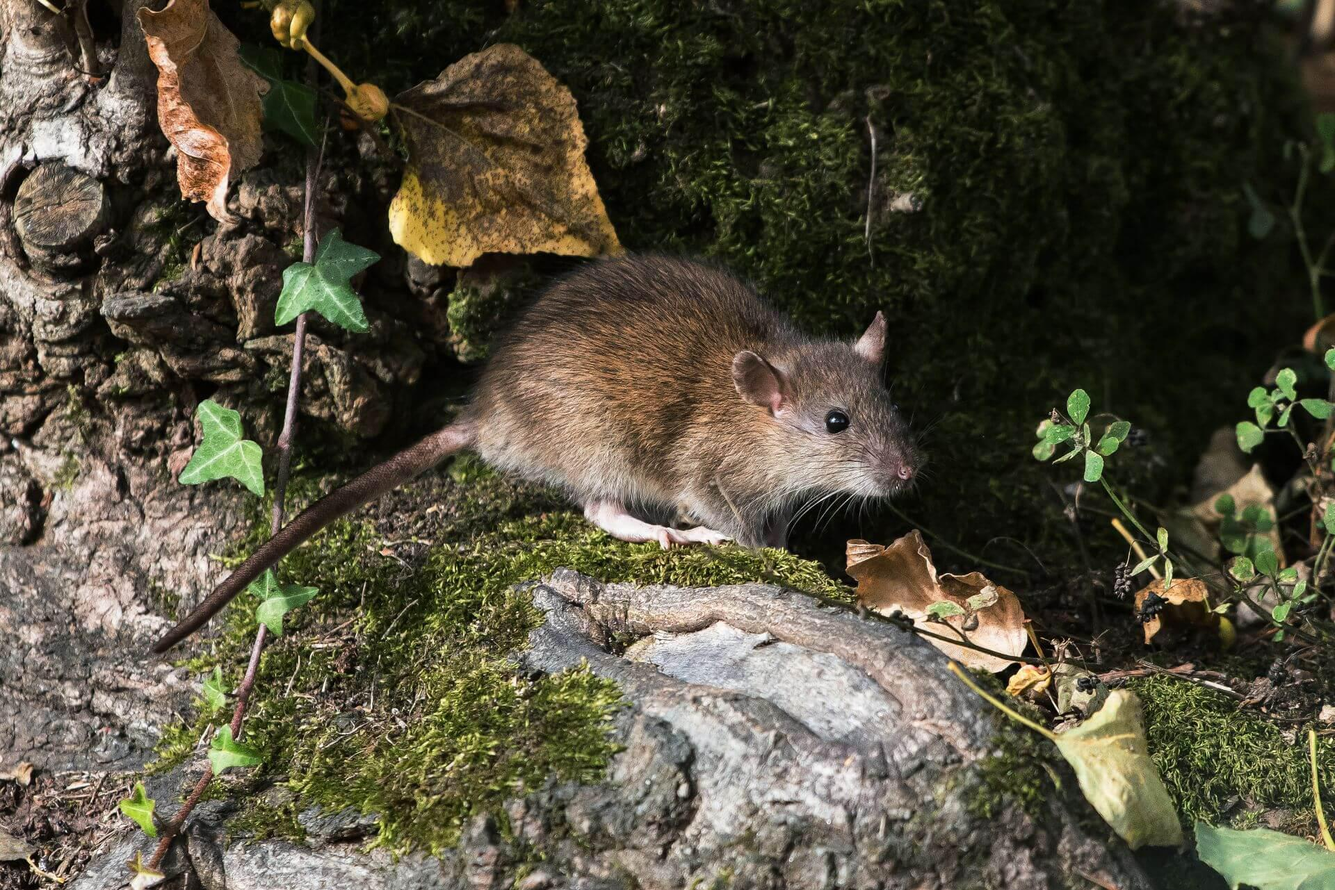rat: (153, 263, 919, 657)
